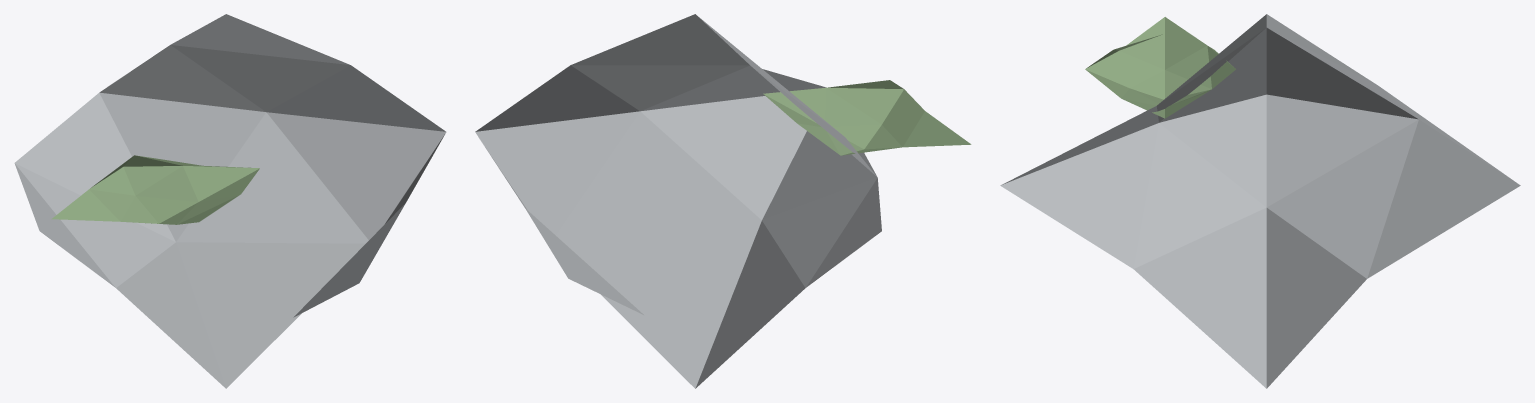
Rendered from boulder_v01.glb.
The picture shows the model from 3 angles, left to right: view 1: azimuth 30°, elevation 25°; view 2: azimuth 150°, elevation 25°; view 3: azimuth 270°, elevation 25°; orthographic projection.
Visible parts, largest first — view 1: lod0; view 2: lod0; view 3: lod0.
Boxes of the visible parts, bbox=[...] form: lod0: bbox=[14, 14, 446, 388]; lod0: bbox=[475, 14, 971, 388]; lod0: bbox=[1000, 14, 1520, 388].
Size of what is drawn, in the model's own units: 2.23 by 1.79 by 2.25.
